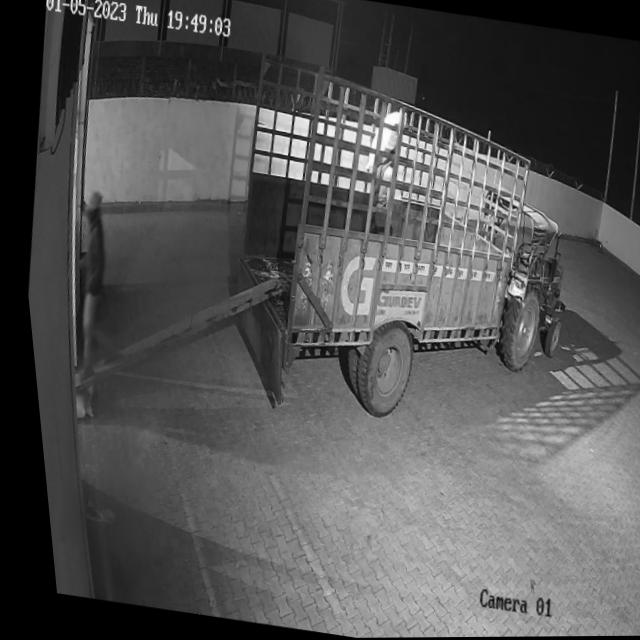sack: (361, 107, 409, 169)
